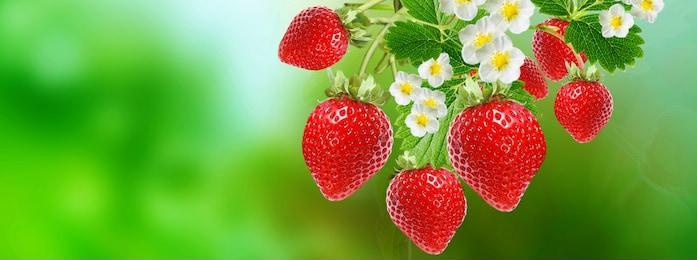Fresa: (443, 86, 553, 220), (295, 88, 397, 210), (381, 160, 480, 259), (274, 1, 363, 76), (550, 72, 623, 151)
